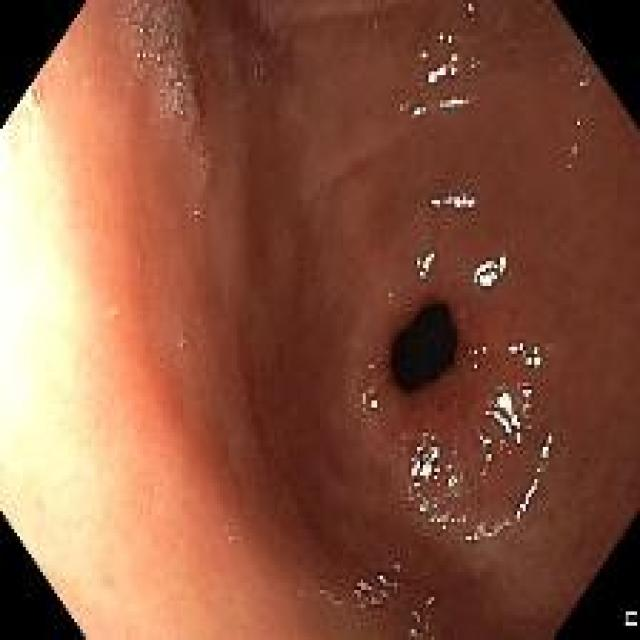bubbles: (127, 2, 188, 64), (156, 64, 200, 121), (465, 344, 482, 370), (577, 74, 591, 95), (469, 55, 486, 71), (196, 153, 209, 170), (31, 87, 45, 102), (368, 14, 380, 30), (575, 116, 586, 133), (252, 65, 264, 79), (565, 128, 576, 142), (273, 30, 283, 44), (177, 338, 189, 349), (181, 126, 192, 138), (193, 208, 202, 220)
contrast: (389, 297, 459, 394)
saturation: (1, 84, 133, 636)
specularity: (485, 387, 524, 443), (408, 434, 440, 488), (472, 253, 508, 290), (517, 478, 539, 519), (431, 191, 475, 211), (413, 249, 436, 278), (427, 64, 448, 84), (540, 433, 554, 462), (525, 343, 541, 368), (438, 95, 466, 109), (508, 341, 529, 357), (430, 514, 446, 532), (475, 433, 493, 446), (411, 103, 427, 116), (445, 476, 459, 490), (437, 32, 453, 44), (465, 532, 478, 545), (418, 501, 430, 514), (519, 387, 536, 396), (482, 453, 495, 464), (369, 397, 377, 411), (449, 51, 458, 62), (449, 64, 458, 75), (468, 4, 477, 13), (445, 463, 452, 472), (473, 349, 480, 357), (472, 361, 478, 370), (419, 51, 426, 57), (483, 345, 487, 355)
